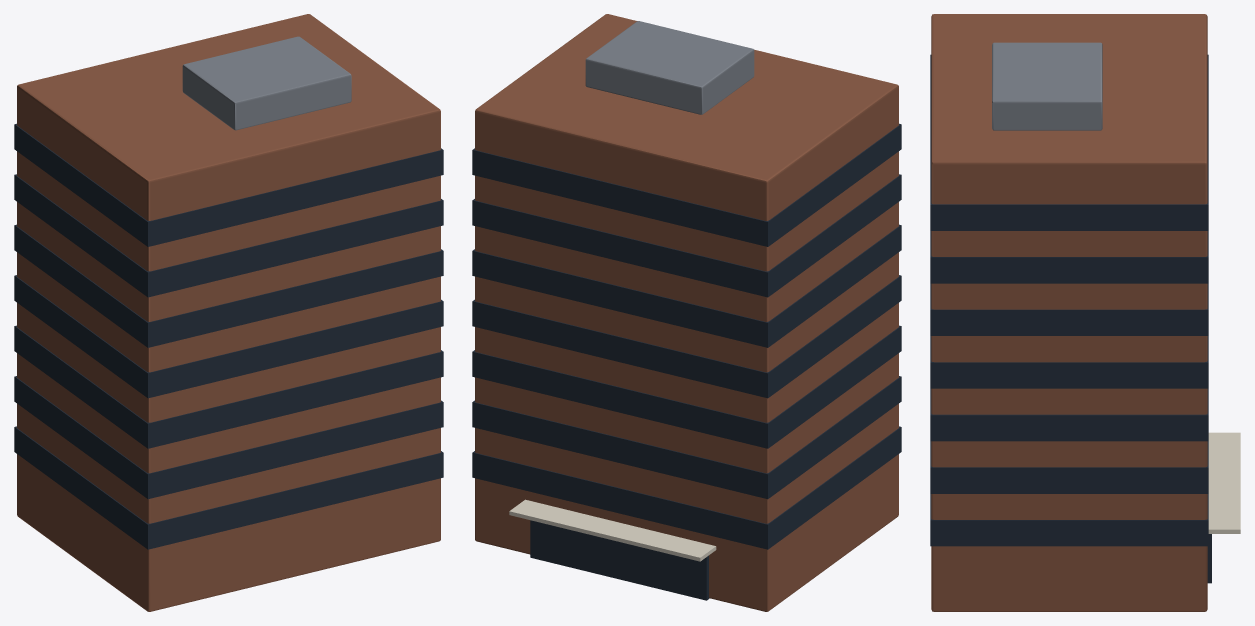
Rendered from office.glb.
3 renders of one model, left to right at view 1: azimuth 30°, elevation 25°; view 2: azimuth 150°, elevation 25°; view 3: azimuth 270°, elevation 25°, orthographic. The views are drawn at different scales.
Visible parts, largest first — view 1: core, band-0, band-5, band-1, band-2, band-6, band-3, band-4, plant; view 2: core, band-0, band-5, band-1, band-2, band-6, band-3, band-4, plant, lobby, canopy; view 3: core, plant, band-6, band-2, band-0, band-5, band-1, band-3, band-4, canopy.
Part boxes in pixels (bbox=[...]): core: bbox=[17, 14, 440, 611]; band-0: bbox=[14, 426, 443, 549]; band-5: bbox=[14, 174, 443, 297]; band-1: bbox=[14, 376, 443, 499]; band-2: bbox=[14, 325, 443, 448]; band-6: bbox=[14, 123, 443, 246]; band-3: bbox=[14, 275, 443, 398]; band-4: bbox=[14, 224, 443, 347]; plant: bbox=[182, 36, 351, 130]; core: bbox=[475, 14, 898, 611]; band-0: bbox=[472, 426, 901, 549]; band-5: bbox=[472, 174, 901, 297]; band-1: bbox=[472, 376, 901, 499]; band-2: bbox=[472, 325, 901, 448]; band-6: bbox=[472, 123, 901, 246]; band-3: bbox=[472, 275, 901, 398]; band-4: bbox=[472, 224, 901, 347]; plant: bbox=[585, 21, 754, 114]; lobby: bbox=[530, 520, 709, 600]; canopy: bbox=[509, 499, 716, 561]; core: bbox=[931, 14, 1207, 611]; plant: bbox=[992, 42, 1102, 130]; band-6: bbox=[930, 54, 1208, 230]; band-2: bbox=[930, 388, 1208, 441]; band-0: bbox=[930, 494, 1208, 546]; band-5: bbox=[930, 231, 1208, 283]; band-1: bbox=[930, 441, 1208, 493]; band-3: bbox=[930, 336, 1208, 388]; band-4: bbox=[930, 283, 1208, 335]; canopy: bbox=[1208, 432, 1240, 533].
Size of the model in its own units: 64.4 by 96 by 56.2.
